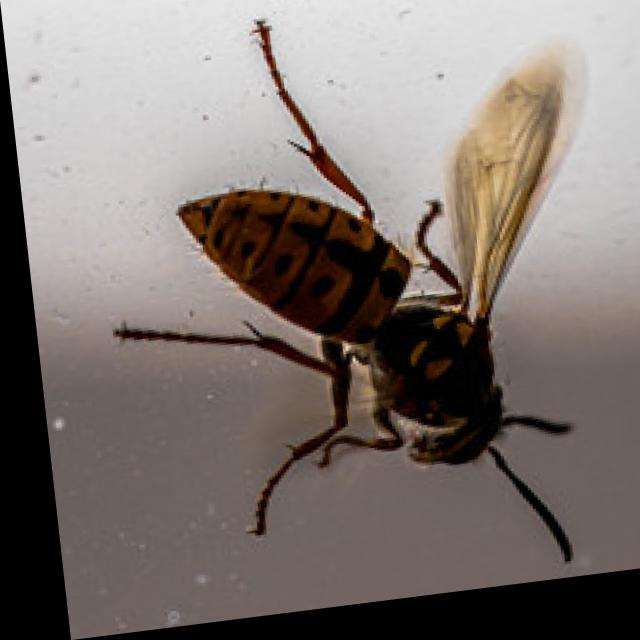Guepe: (55, 0, 635, 632)
